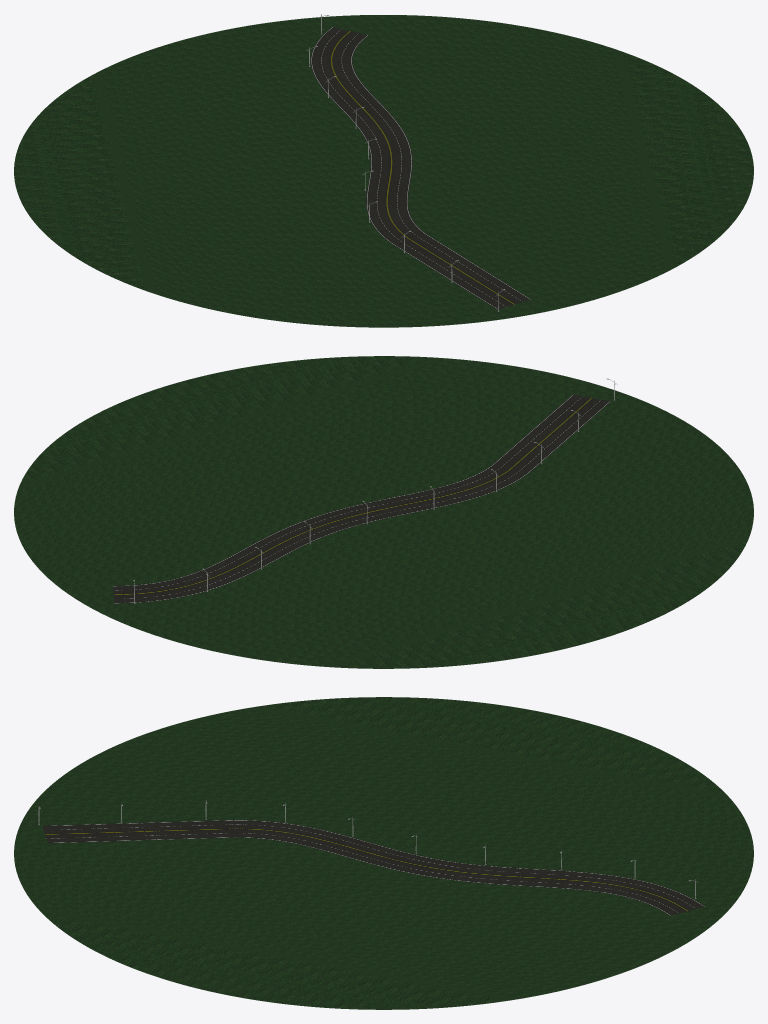
File: road.glb
3 views of the same model, one above another, from view 1: azimuth 30°, elevation 25°; view 2: azimuth 150°, elevation 25°; view 3: azimuth 270°, elevation 25° (orthographic).
Parts seen in each view (by area): view 1: Plane.001_22, Plane_3; view 2: Plane.001_22, Plane_3; view 3: Plane.001_22, Plane_3.
Part boxes in pixels (x1,y1,x2,y2): Plane.001_22: (14,15,753,327); Plane_3: (310,27,530,309); Plane.001_22: (14,356,753,668); Plane_3: (113,394,610,603); Plane.001_22: (14,697,753,1009); Plane_3: (43,820,705,915).
Size of the model in its own units: 199 by 6.05 by 199.
Materials: 4 (2 with a texture image).
